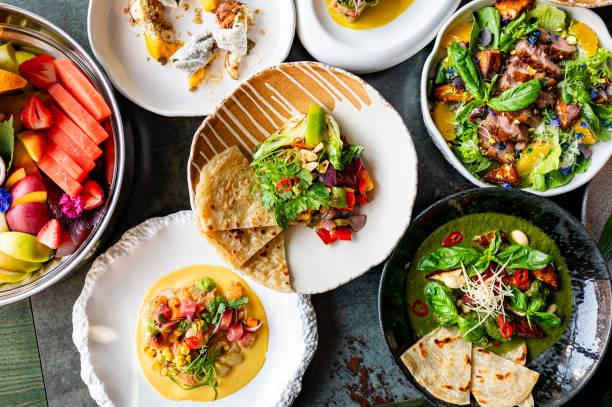Braised Crucian Carp: (186, 55, 418, 289), (380, 186, 609, 406), (76, 212, 315, 406), (420, 2, 610, 196)
